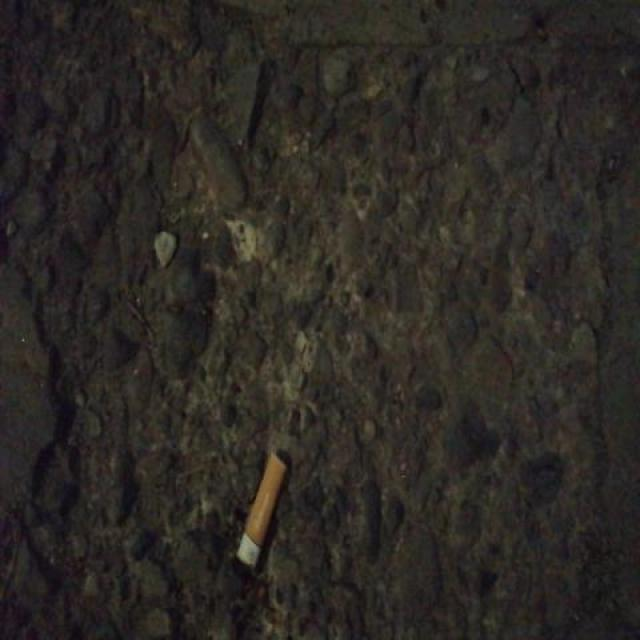non-organic waste: (232, 449, 289, 574)
